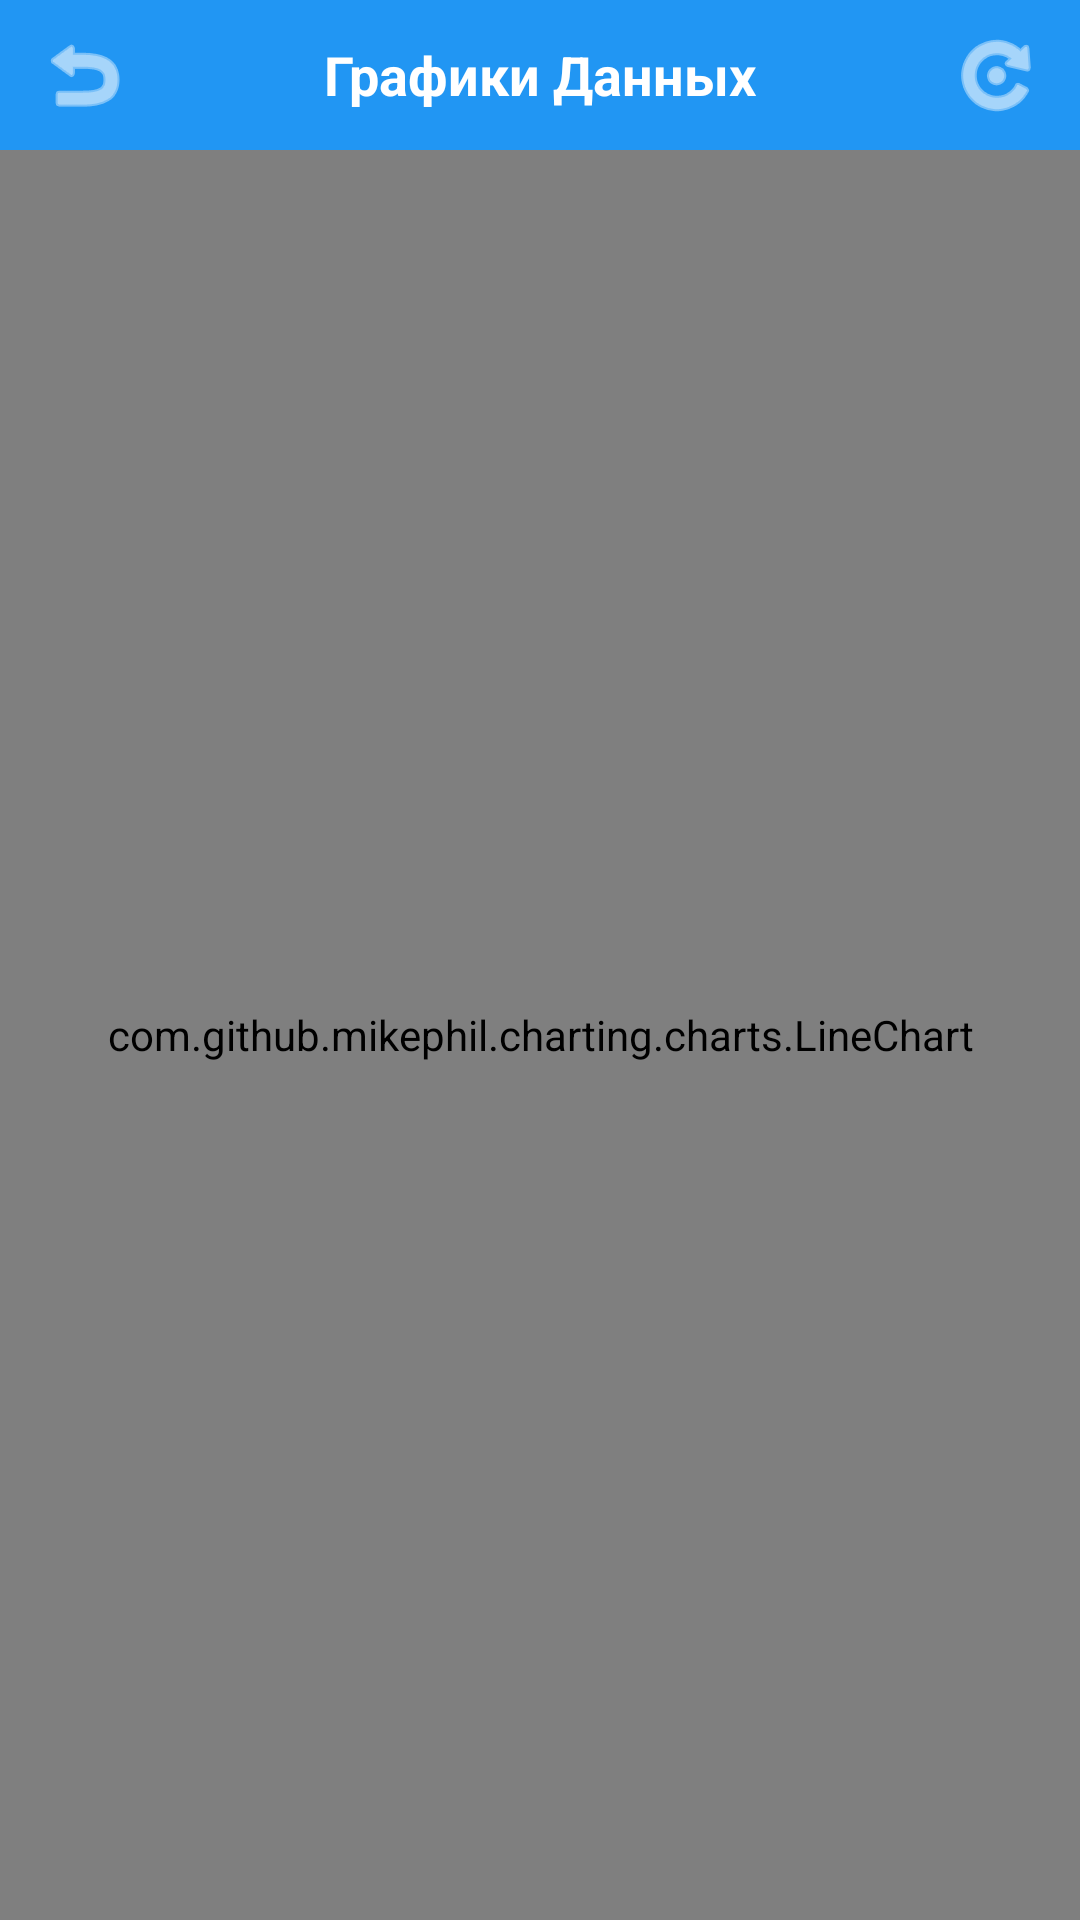

Icons on this 1080px×1920px Android screen, each with the point to tap as (x,y):
revert: (85,75)
rotate: (996,75)
